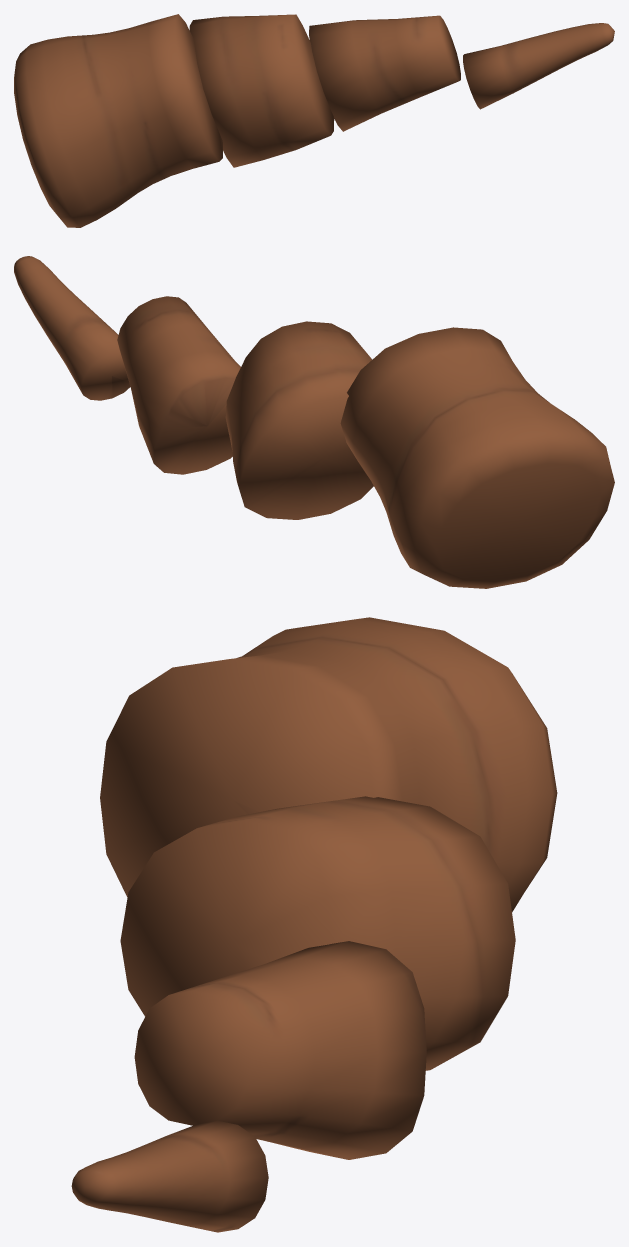
Rendered from RaizAncestral_cortada.fbx.
3 views of the same model, one above another, from view 1: azimuth 30°, elevation 25°; view 2: azimuth 150°, elevation 25°; view 3: azimuth 270°, elevation 25° (orthographic). The views are drawn at different scales.
Parts seen in each view (by area): view 1: RaizAncestral_cortada; view 2: RaizAncestral_cortada; view 3: RaizAncestral_cortada.
Boxes of the visible parts, box(x1,y1,x2,y2) form: RaizAncestral_cortada: box(14, 14, 614, 227); RaizAncestral_cortada: box(14, 256, 614, 588); RaizAncestral_cortada: box(71, 617, 557, 1232).
Size of the model in its own units: 213 by 68.23 by 82.04.
1 material, 1 textured.
